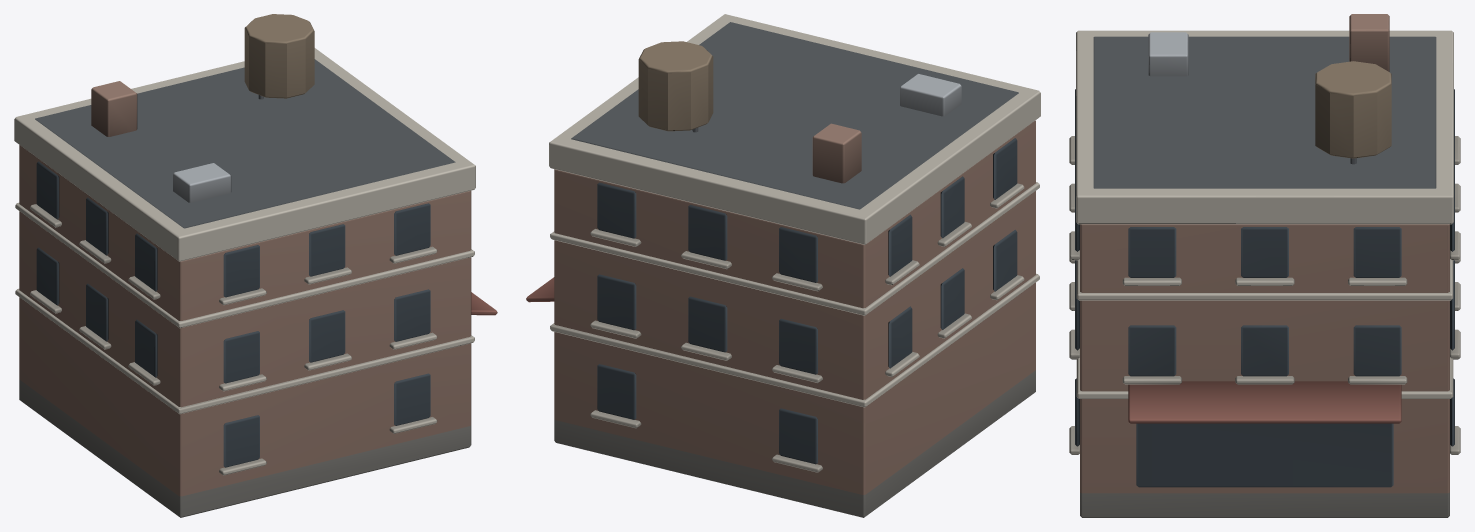
Rendered from civilian_structure.glb.
3 renders of one model, left to right at view 1: azimuth 30°, elevation 25°; view 2: azimuth 150°, elevation 25°; view 3: azimuth 270°, elevation 25°, orthographic. The views are drawn at different scales.
Visible parts, largest first — view 1: Body; view 2: Body; view 3: Body.
Boxes of the visible parts, x1,y1,x2,y2 form: Body: (14, 14, 497, 517); Body: (526, 14, 1040, 517); Body: (1069, 14, 1460, 517).
Bounding box in the file's own units: 5.71 × 5.5 × 4.86.
